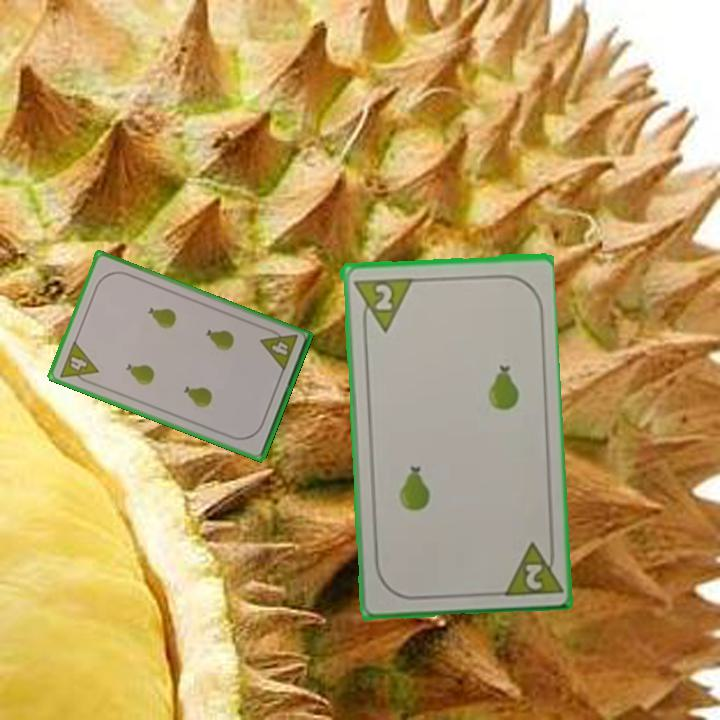2p: (497, 536, 562, 599), (349, 273, 413, 335)
4p: (56, 337, 101, 388), (257, 324, 301, 374)
